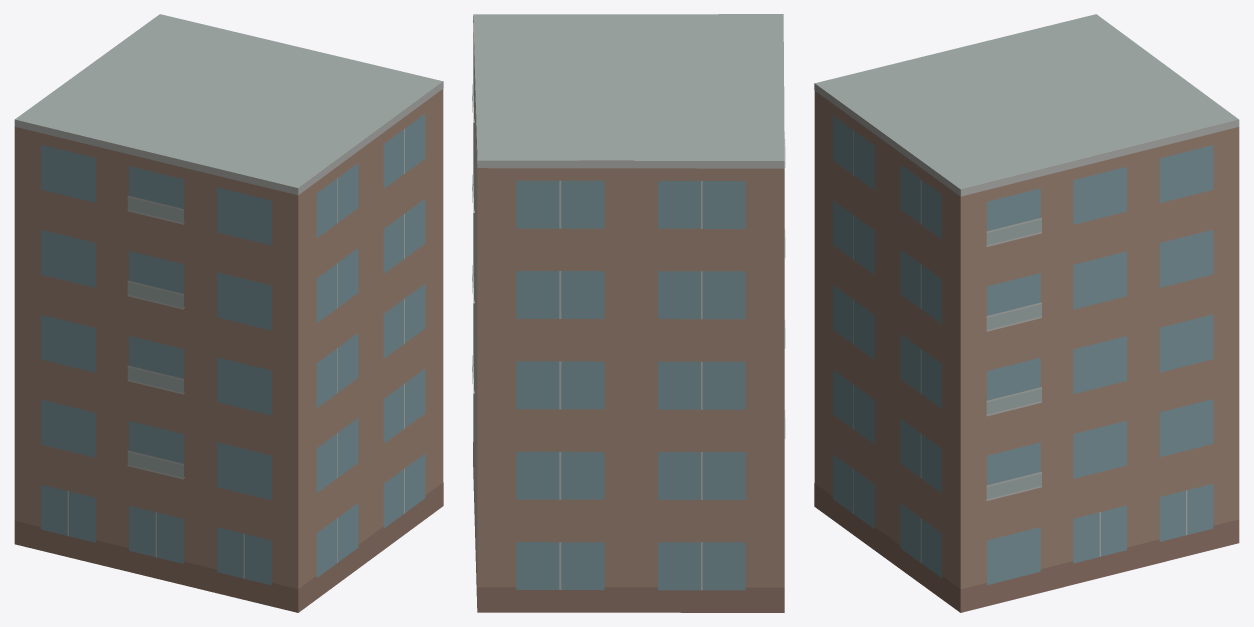
File: survey-upis-32862297.glb
3 views of the same model, side by side, from view 1: azimuth 30°, elevation 25°; view 2: azimuth 150°, elevation 25°; view 3: azimuth 270°, elevation 25° (orthographic). The views are drawn at different scales.
Parts seen in each view (by area): view 1: survey-upis-32862297.tmp; view 2: survey-upis-32862297.tmp; view 3: survey-upis-32862297.tmp.
Boxes of the visible parts, bbox=[...] form: survey-upis-32862297.tmp: bbox=[14, 14, 443, 612]; survey-upis-32862297.tmp: bbox=[472, 14, 785, 612]; survey-upis-32862297.tmp: bbox=[814, 14, 1239, 612].
Bounding box in the file's own units: 12.9 × 14.5 × 13.19.
